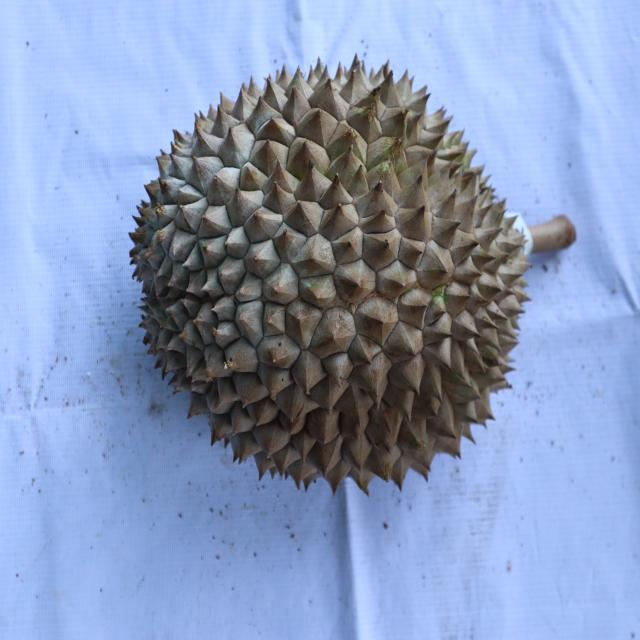mature: (129, 56, 535, 498)
